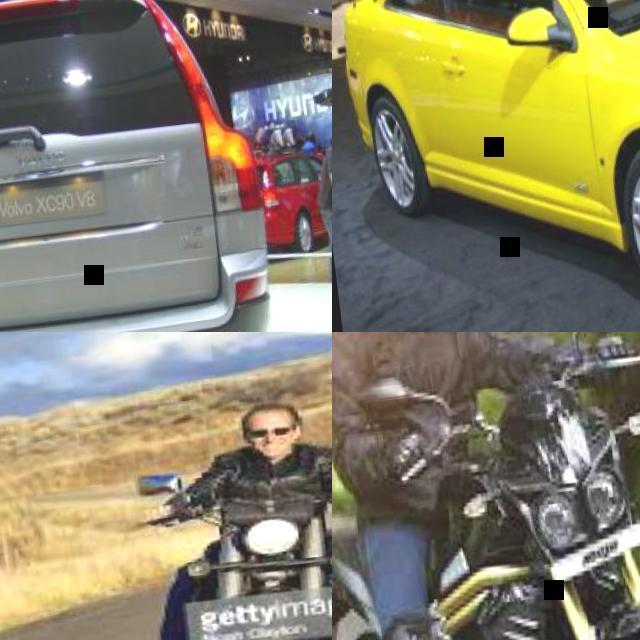car: (0, 0, 337, 368), (336, 0, 639, 257)
